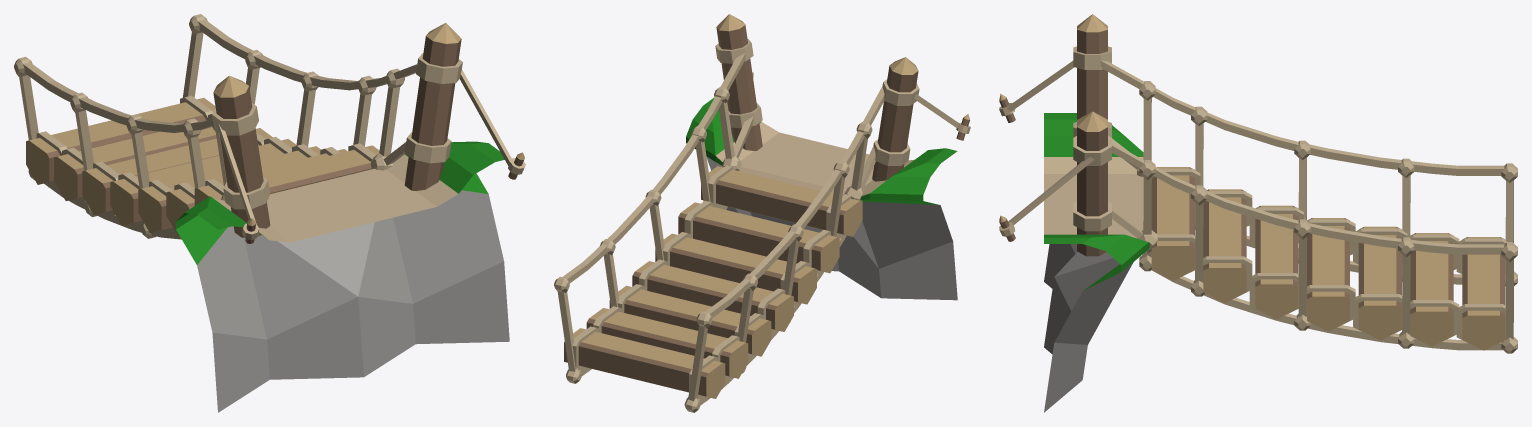
File: Cliff_Prop_Bridge_Rope_End.obj
3 renders of one model, left to right at view 1: azimuth 30°, elevation 25°; view 2: azimuth 150°, elevation 25°; view 3: azimuth 270°, elevation 25°, orthographic. The views are drawn at different scales.
Visible parts, largest first — view 1: object59, object62, object75, object3, object12, object5, object34, object9, object8, object22, object31, object6 (+15 smaller); view 2: object59, object3, object5, object6, object8, object9, object12, object34, object75, object62, object22, object31 (+17 smaller); view 3: object59, object6, object8, object34, object5, object3, object12, object9, object22, object31, object62, object75 (+24 smaller).
Boxes of the visible parts, x1,y1,x2,y2 form: object59: (176, 141, 509, 412); object62: (404, 23, 461, 190); object75: (213, 75, 270, 237); object3: (26, 98, 215, 184); object12: (54, 120, 216, 200); object5: (194, 145, 379, 205); object34: (82, 128, 272, 214); object9: (110, 139, 296, 225); object8: (138, 146, 320, 233); object22: (23, 62, 211, 132); object31: (198, 19, 386, 90); object6: (166, 149, 347, 235); object59: (686, 97, 957, 300); object3: (564, 328, 725, 398); object5: (701, 166, 862, 236); object6: (678, 202, 839, 273); object8: (655, 233, 816, 304); object9: (632, 261, 793, 331); object12: (586, 308, 748, 378); object34: (609, 285, 771, 356); object75: (872, 57, 918, 181); object62: (716, 14, 762, 150); object22: (705, 131, 864, 318); object31: (562, 96, 722, 283); object59: (1044, 113, 1149, 412); object6: (1203, 189, 1246, 302); object8: (1255, 205, 1298, 319); object34: (1358, 226, 1401, 340); object5: (1151, 167, 1194, 280); object3: (1462, 237, 1505, 350); object12: (1410, 233, 1453, 346); object9: (1307, 218, 1349, 331); object22: (1153, 88, 1504, 175); object31: (1153, 167, 1504, 254); object62: (1077, 111, 1107, 256); object75: (1077, 14, 1107, 119).
Size of the model in its own units: 2 by 2.02 by 3.34.
